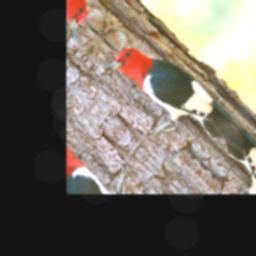Woodpecker: (92, 23, 238, 180)
